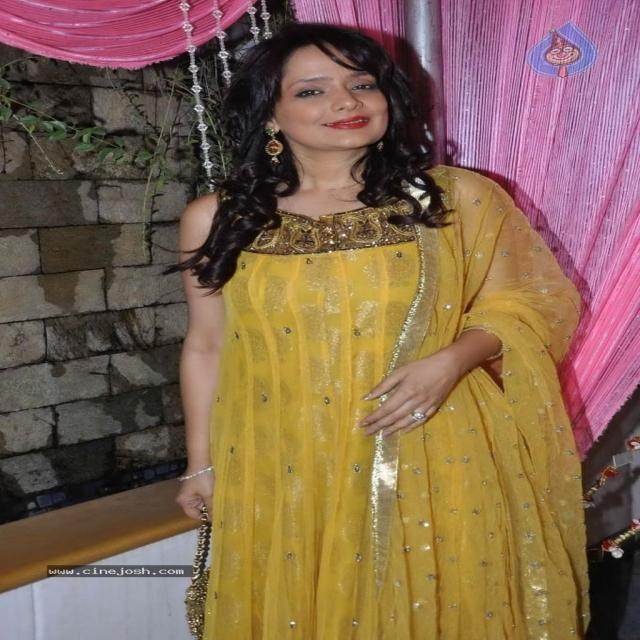Face: (256, 47, 406, 157)
